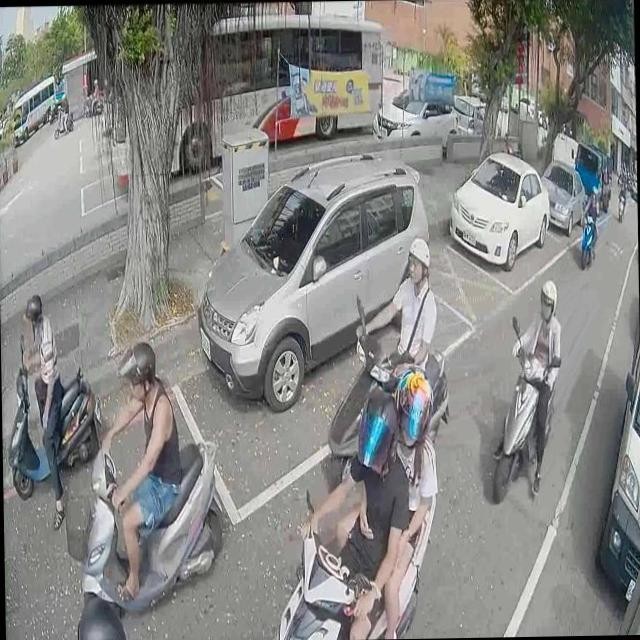person: (284, 372, 415, 640), (335, 351, 443, 640), (95, 335, 184, 609), (482, 268, 564, 506), (354, 232, 440, 402), (17, 288, 64, 528), (75, 586, 127, 640), (580, 188, 598, 262), (58, 94, 68, 132), (619, 180, 626, 208), (48, 92, 54, 115)
